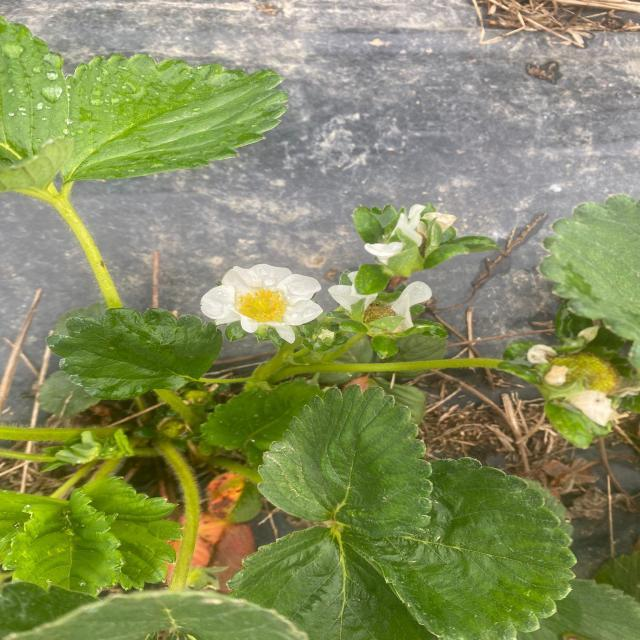flower: (196, 258, 324, 342), (329, 260, 436, 334)
